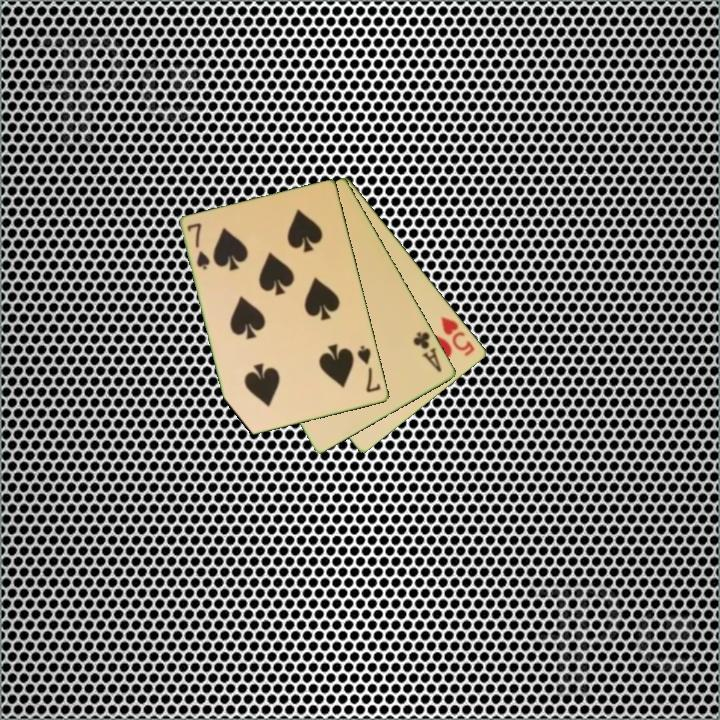5h: (438, 313, 478, 359)
7s: (354, 342, 384, 396), (184, 219, 213, 273)
Ac: (410, 328, 445, 375)
